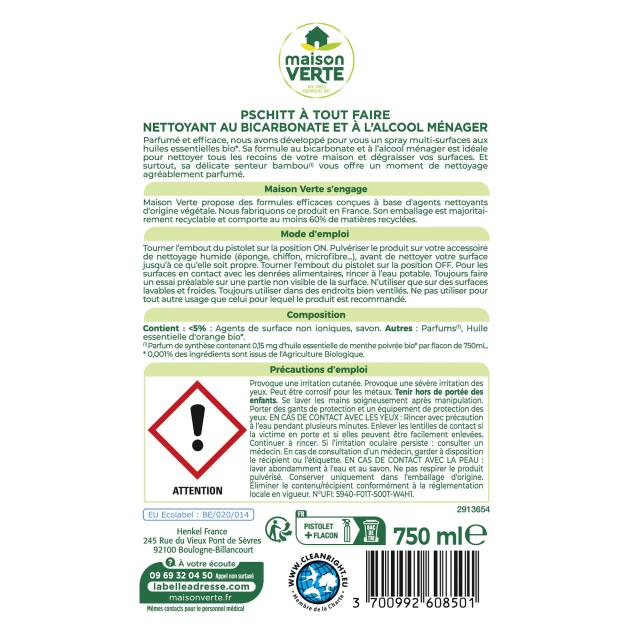GHS_Symbol_EXCLAMATION_MARK: (150, 379, 247, 479)
